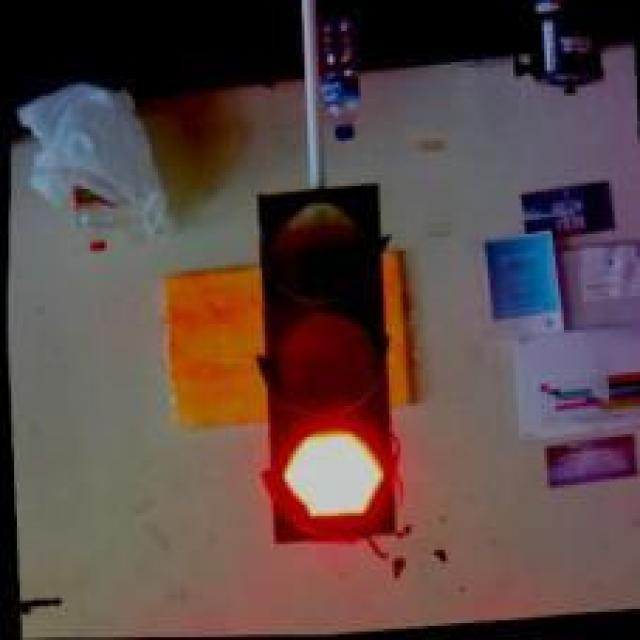Lampu Merah: (250, 189, 404, 544)
